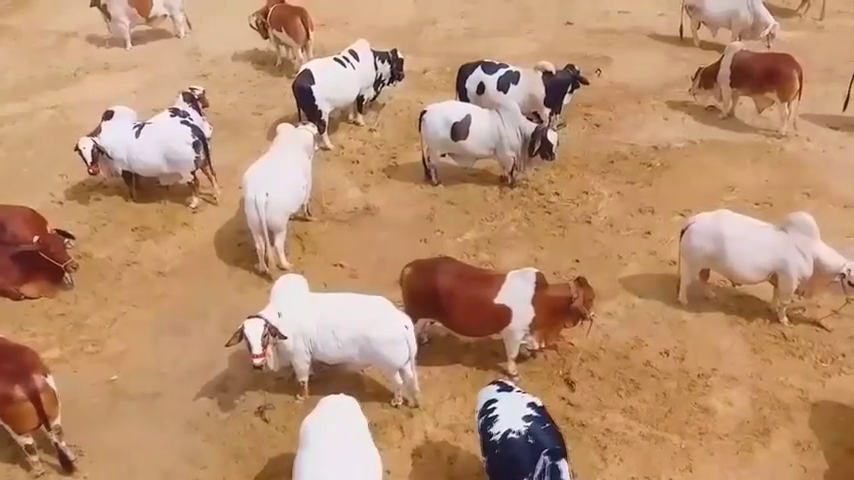bo: (230, 266, 431, 410), (665, 201, 853, 343), (397, 255, 597, 383), (217, 100, 335, 278), (68, 101, 224, 213), (413, 94, 561, 194), (289, 33, 409, 155), (683, 34, 815, 143), (463, 370, 591, 480), (449, 48, 590, 133), (4, 332, 80, 476), (286, 379, 392, 480), (6, 197, 86, 307), (676, 1, 791, 61), (238, 2, 327, 73), (89, 1, 203, 50), (165, 75, 224, 153)
